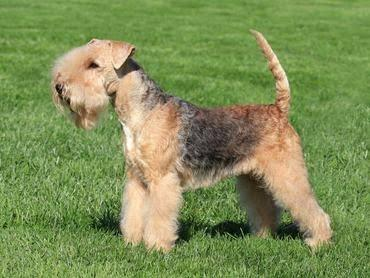adult_dog: (50, 27, 338, 256)
